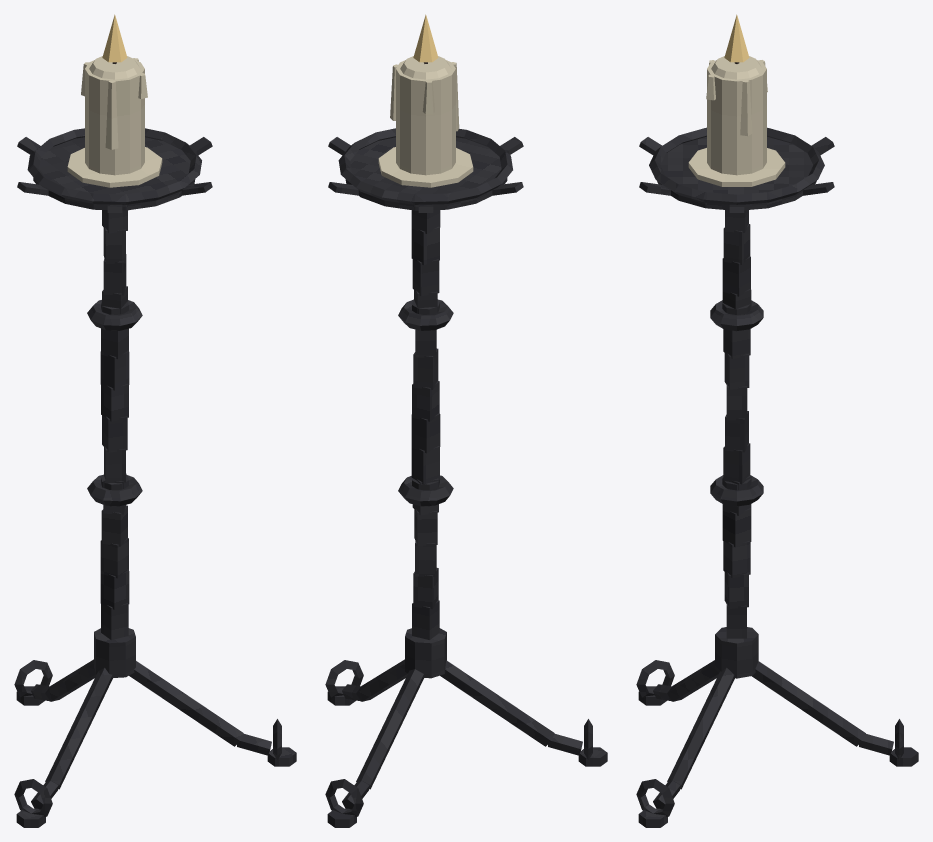
The model's file is candle_stand.obj.
3 renders of one model, left to right at view 1: azimuth 30°, elevation 25°; view 2: azimuth 150°, elevation 25°; view 3: azimuth 270°, elevation 25°, orthographic.
Visible parts, largest first — view 1: candle_stand; view 2: candle_stand; view 3: candle_stand.
Part boxes in pixels (box(x1,y1,x2,y2)): candle_stand: box(14, 14, 296, 827); candle_stand: box(325, 14, 607, 827); candle_stand: box(636, 14, 918, 827).
Size of the model in its own units: 0.6506 by 1.71 by 0.5834.
